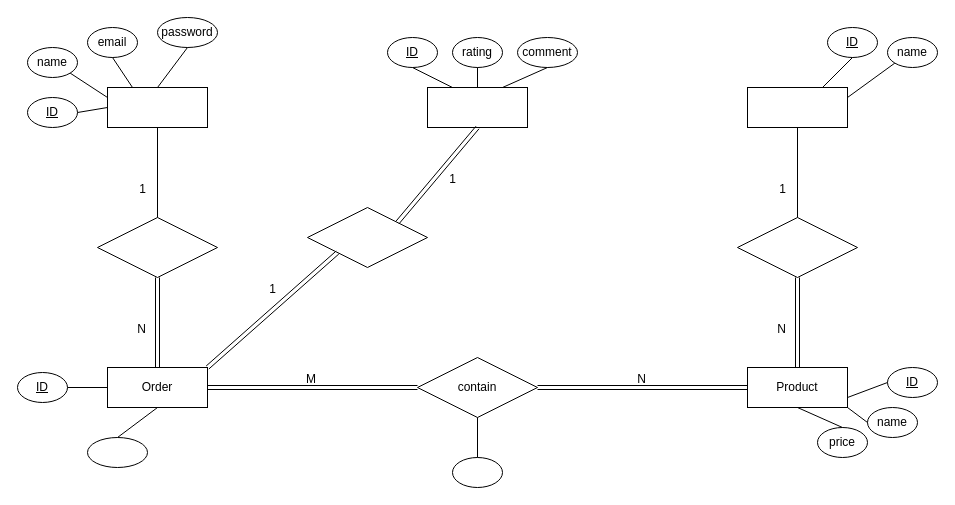
The diagram is 955 pixels wide and 505 high, and some of its shapes have lost their labels. Here are the shapes that lost their labels. From the top down, the centre of each, then its label:
point (157, 107): User
point (477, 107): Review
point (797, 107): Category
point (157, 247): place
point (367, 237): have
point (797, 247): has
point (117, 452): date
point (477, 472): Quantity
